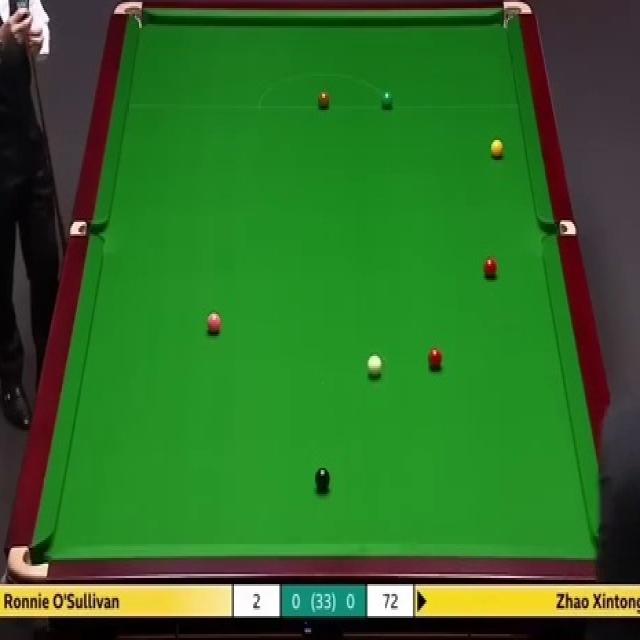pocket: (5, 543, 50, 585), (499, 0, 532, 32), (114, 1, 143, 28), (540, 218, 576, 237), (67, 220, 105, 235)
